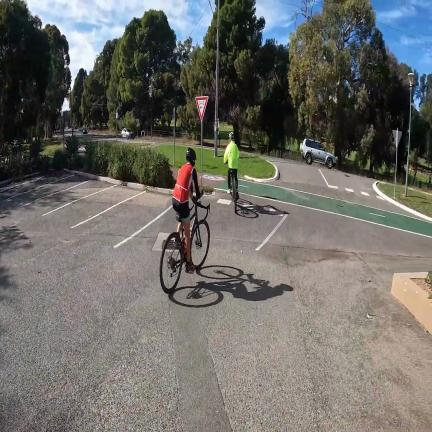Green_Bike_Lane: (240, 180, 432, 238)
